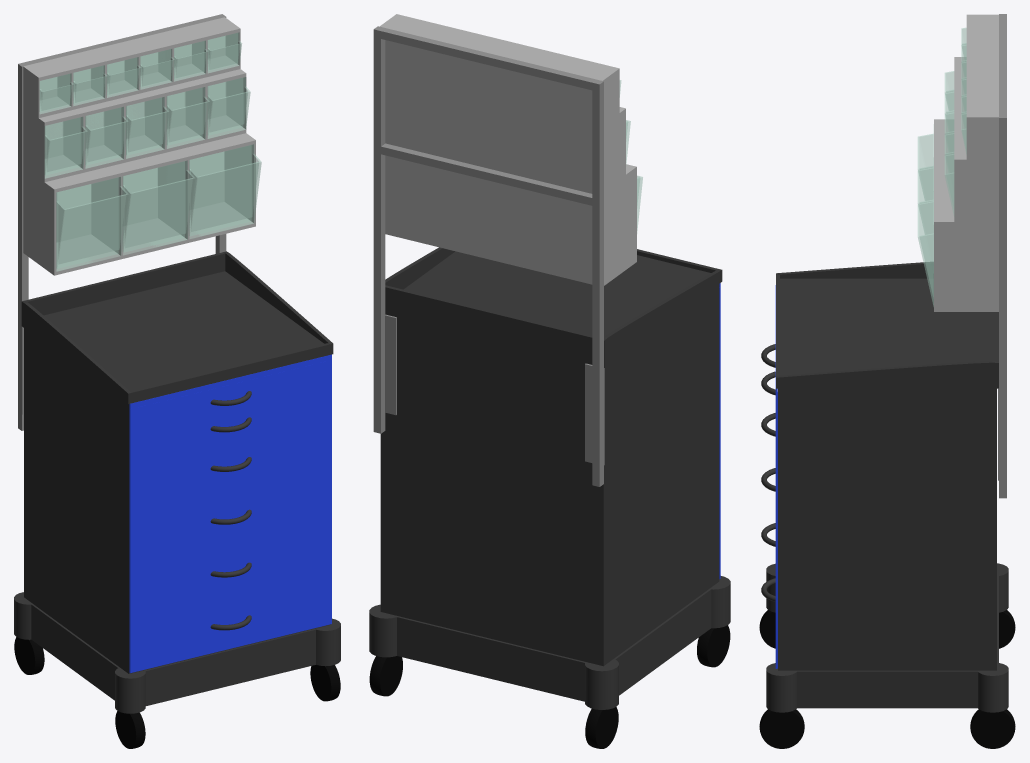
File: Anethesia Cart v2.1.FBX
The picture shows the model from 3 angles, left to right: view 1: azimuth 30°, elevation 25°; view 2: azimuth 150°, elevation 25°; view 3: azimuth 270°, elevation 25°; orthographic projection. The views are drawn at different scales.
Parts seen in each view (by area): view 1: DrawerContainerTop, DrawerContainer, TopWorkspace, BottomSupport, DrawerB02, DrawerB03, DrawerB01, DrawerB04, DrawerTB01, DrawerTB03, DrawerTB02, DrawerS01 (+17 smaller); view 2: DrawerContainer, DrawerContainerTop, TopWorkspace, DrawerContainerTopHolder, BottomSupport, Wheel01, Wheel04, Wheel02; view 3: DrawerContainer, TopWorkspace, DrawerContainerTop, BottomSupport, DrawerContainerTopHolder, Wheel03, Wheel04, DrawerTB03, DrawerTB01, DrawerTB02, Wheel01, Wheel02 (+1 smaller).
Part boxes in pixels (left/top/right/bottom): DrawerContainerTop: left=23, top=17, right=255, bottom=275; DrawerContainer: left=24, top=328, right=330, bottom=673; TopWorkspace: left=21, top=251, right=333, bottom=403; BottomSupport: left=14, top=592, right=340, bottom=713; DrawerB02: left=129, top=465, right=331, bottom=567; DrawerB03: left=129, top=518, right=331, bottom=620; DrawerB01: left=129, top=413, right=331, bottom=514; DrawerB04: left=129, top=571, right=331, bottom=673; DrawerTB01: left=56, top=177, right=128, bottom=271; DrawerTB03: left=189, top=144, right=261, bottom=238; DrawerTB02: left=122, top=160, right=195, bottom=255; DrawerS01: left=129, top=360, right=331, bottom=435; DrawerContainer: left=380, top=284, right=719, bottom=666; DrawerContainerTop: left=380, top=14, right=636, bottom=285; TopWorkspace: left=385, top=247, right=722, bottom=367; DrawerContainerTopHolder: left=373, top=26, right=604, bottom=486; BottomSupport: left=369, top=576, right=730, bottom=709; Wheel01: left=585, top=707, right=618, bottom=748; Wheel04: left=369, top=656, right=402, bottom=696; Wheel02: left=697, top=625, right=730, bottom=667; DrawerContainer: left=778, top=388, right=996, bottom=670; TopWorkspace: left=776, top=262, right=998, bottom=388; DrawerContainerTop: left=934, top=14, right=998, bottom=311; BottomSupport: left=766, top=563, right=1008, bottom=712; DrawerContainerTopHolder: left=998, top=14, right=1006, bottom=498; Wheel03: left=759, top=709, right=804, bottom=748; Wheel04: left=970, top=709, right=1015, bottom=748; DrawerTB03: left=917, top=192, right=933, bottom=306; DrawerTB01: left=917, top=124, right=933, bottom=200; DrawerTB02: left=917, top=158, right=933, bottom=234; Wheel01: left=999, top=610, right=1015, bottom=648; Wheel02: left=759, top=610, right=775, bottom=648.
Size of the model in its own units: 66 by 172 by 63.17.
